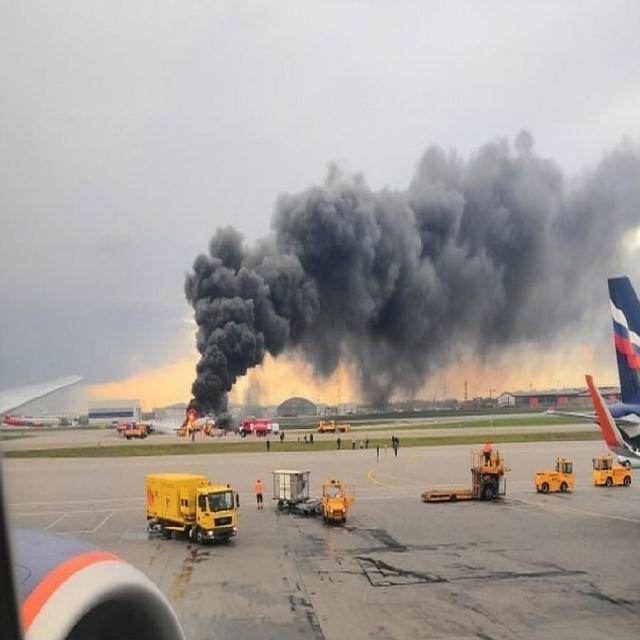Smoke: (182, 134, 518, 408), (516, 127, 612, 346)
